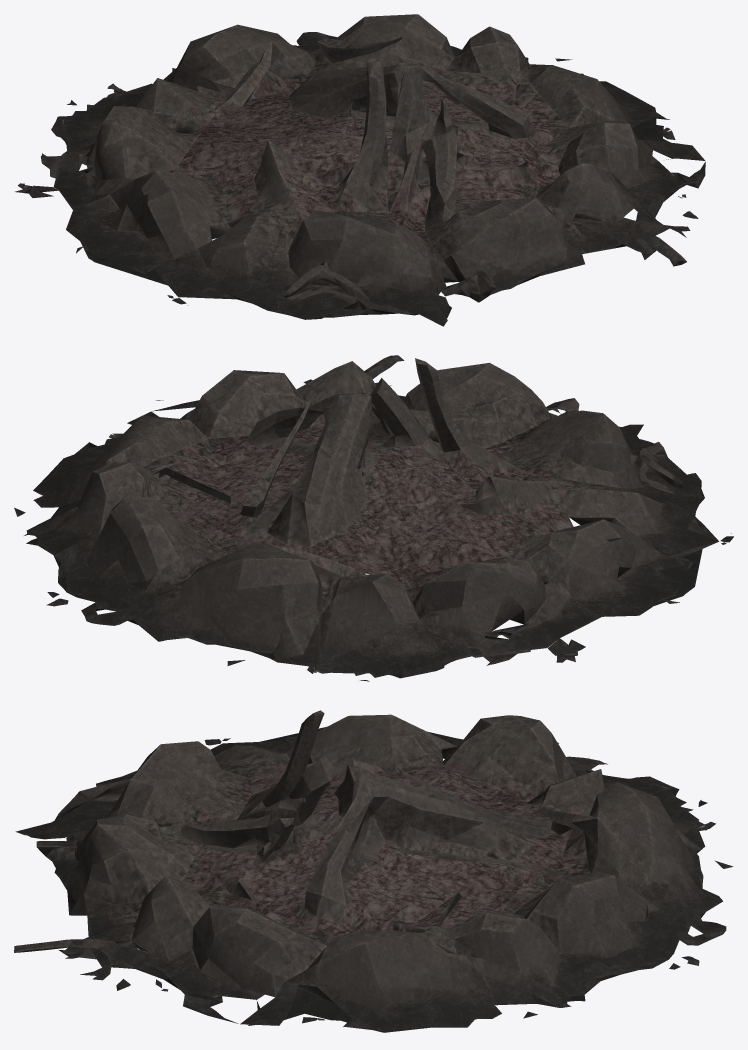
File: m15-bandit-campfire.glb
3 renders of one model, top to bottom at view 1: azimuth 30°, elevation 25°; view 2: azimuth 150°, elevation 25°; view 3: azimuth 270°, elevation 25°, orthographic. The views are drawn at different scales.
Visible parts, largest first — view 1: m15-bandit-campfire.glb; view 2: m15-bandit-campfire.glb; view 3: m15-bandit-campfire.glb.
Part boxes in pixels (x1=…): m15-bandit-campfire.glb: x1=15, y1=14, x2=705, y2=326; m15-bandit-campfire.glb: x1=14, y1=355, x2=733, y2=681; m15-bandit-campfire.glb: x1=14, y1=710, x2=733, y2=1032.
Bounding box in the file's own units: 1.77 × 0.4461 × 1.76.
1 material, 1 textured.
